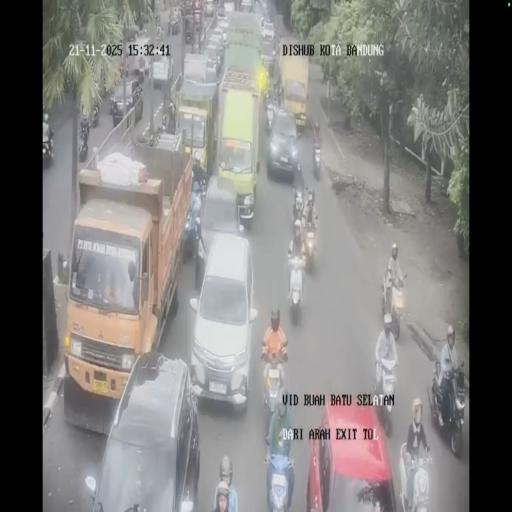3: (173, 63, 218, 175), (221, 9, 265, 96), (125, 35, 152, 77), (149, 53, 172, 88)
car: (88, 354, 200, 510), (197, 174, 242, 268), (266, 108, 300, 181), (110, 80, 144, 128), (203, 40, 224, 80), (260, 32, 276, 78), (216, 16, 230, 40), (223, 0, 235, 16), (193, 5, 202, 24), (240, 0, 252, 13), (205, 0, 214, 16)
truck: (428, 359, 466, 457), (398, 440, 430, 511), (373, 354, 398, 435), (261, 353, 287, 419), (380, 276, 401, 336), (286, 256, 306, 318), (302, 216, 318, 273), (291, 182, 305, 224), (312, 130, 322, 179), (87, 100, 100, 128), (42, 134, 53, 164), (78, 129, 88, 161), (168, 14, 180, 34), (264, 82, 272, 110), (168, 101, 176, 129), (184, 20, 194, 42), (155, 24, 163, 46)
